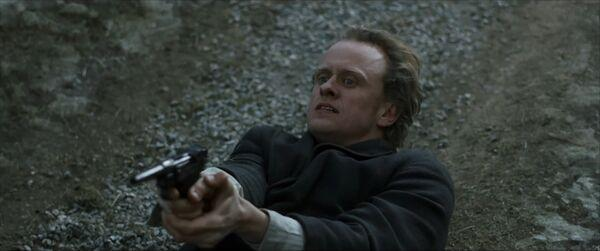Gun: (129, 147, 210, 199)
